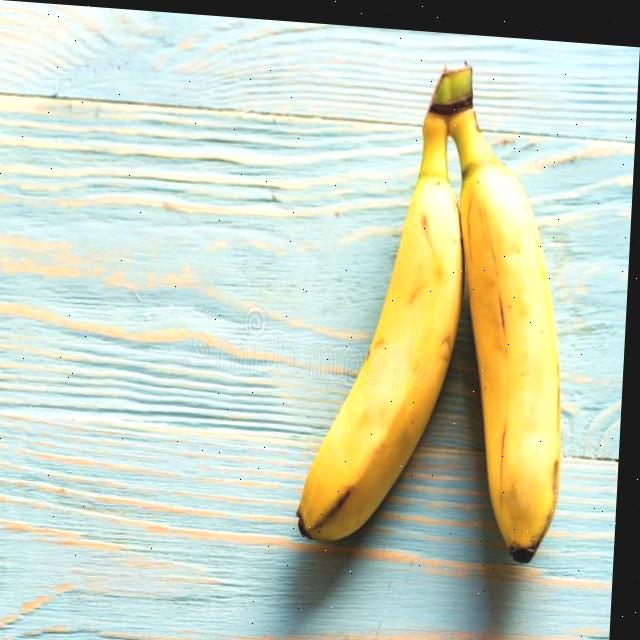banana: (289, 45, 583, 575)
